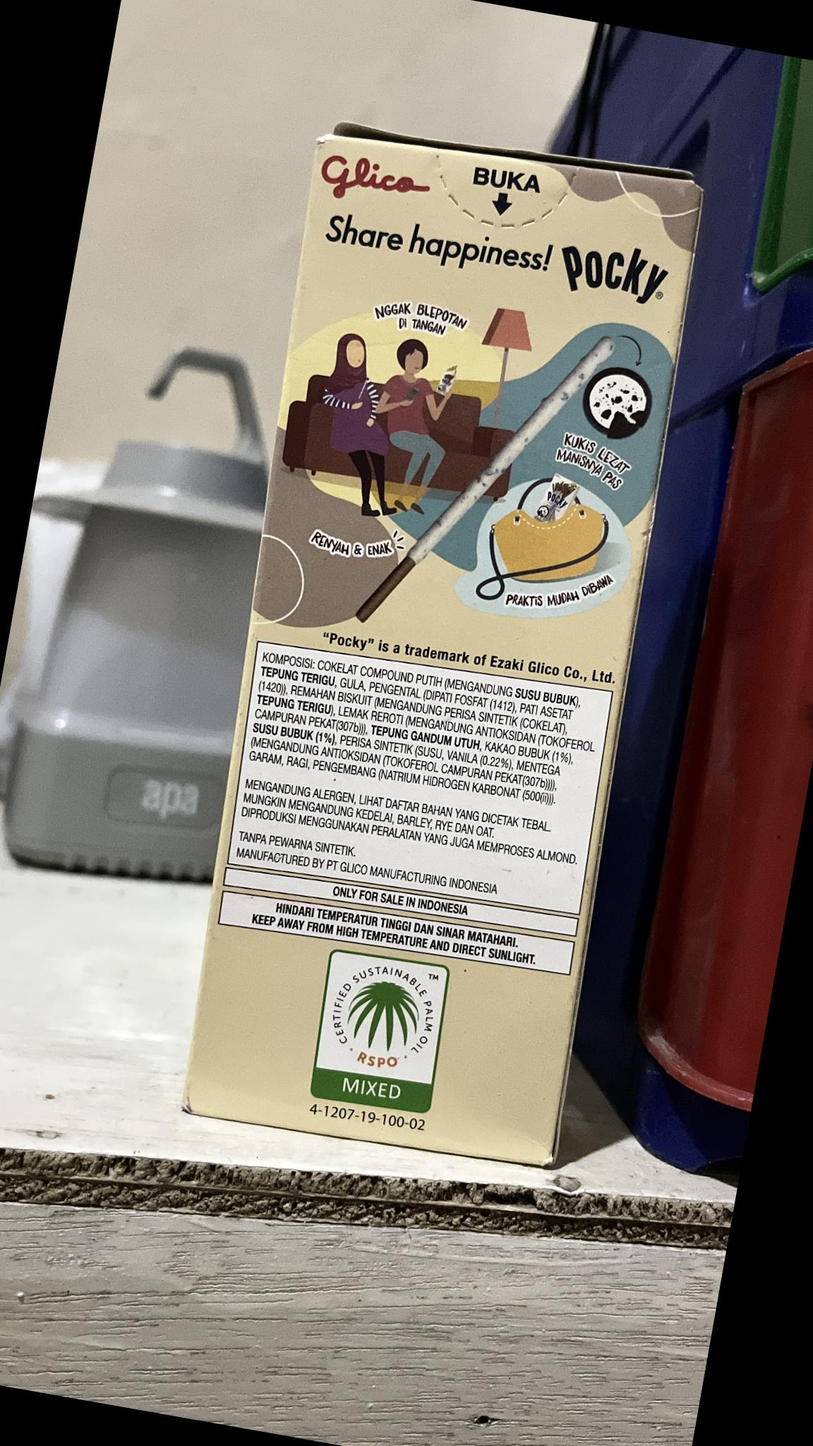Kertas: (177, 138, 705, 1174)
